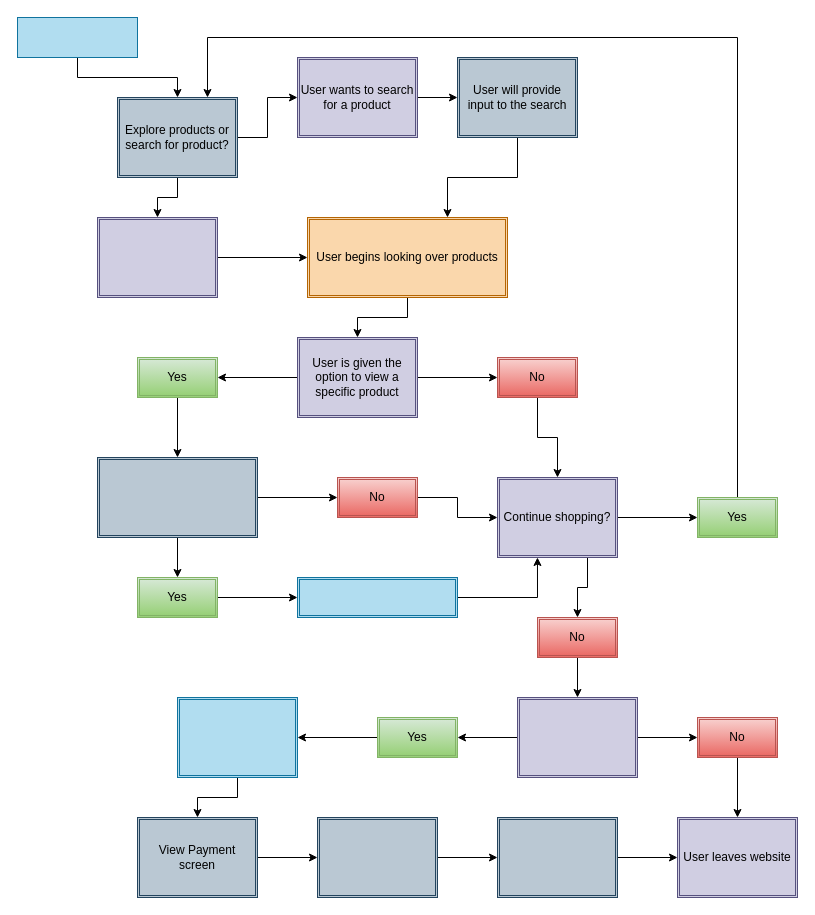
This 815x915 diagram has some shape labels left out. Here are the shapes that lost their labels. From the top down, the box of each, then its label:
(16, 16, 138, 58): User enters website
(96, 216, 218, 298): User wants to explore products of the home page
(96, 456, 258, 538): Product webpage opens. Add to cart?
(296, 576, 458, 618): Added to cart confirmation
(176, 696, 298, 778): View cart screen
(516, 696, 638, 778): Checkout?
(316, 816, 438, 898): Give input of payment information
(496, 816, 618, 898): User has paid and receives an order confirmation and email
